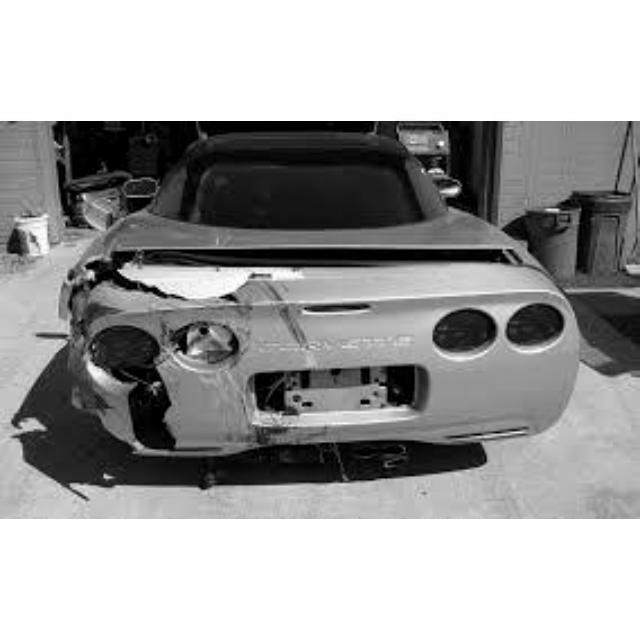Rear-windscreen-Damage: (73, 261, 212, 445)
